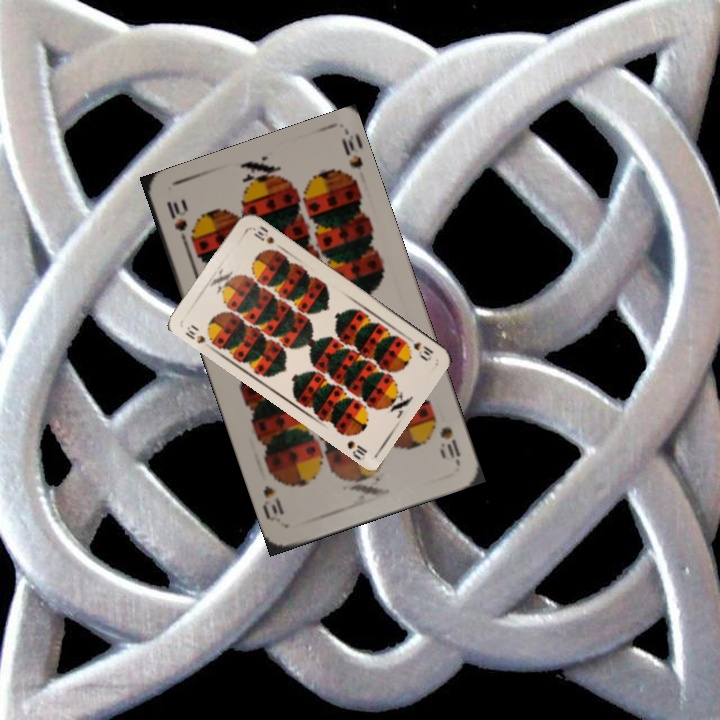S10: (162, 195, 192, 251), (435, 422, 463, 464), (402, 332, 436, 362), (181, 320, 208, 346)
